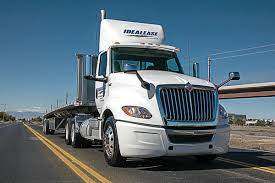truck: (42, 10, 233, 165)
